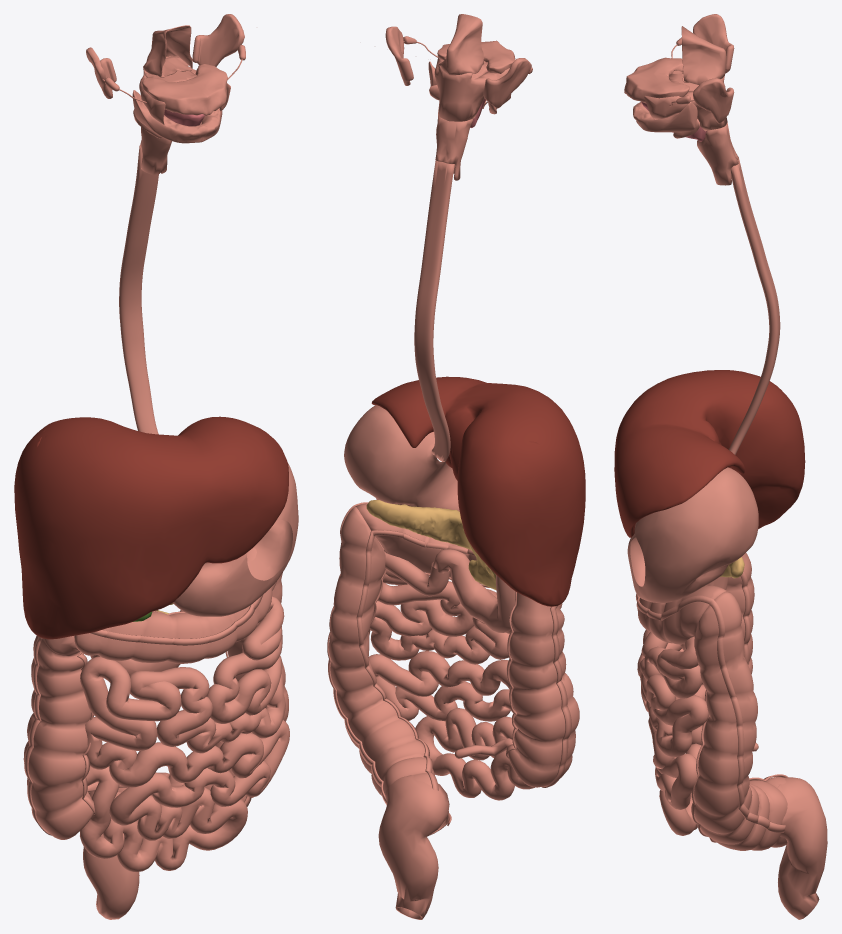
Rendered from digestive.glb.
3 views of the same model, side by side, from view 1: azimuth 30°, elevation 25°; view 2: azimuth 150°, elevation 25°; view 3: azimuth 270°, elevation 25° (orthographic). The views are drawn at different scales.
Visible parts, largest first — view 1: liver, jejunum, ascending-colon, stomach, transverse-colon, oesophagus, gingiva, sigmoid-colon, mesocolic-taenia, parotid-gland-left, nasopharynx, laryngopharynx (+5 smaller); view 2: liver, jejunum, descending-colon, ascending-colon, stomach, sigmoid-colon, oesophagus, pancreas, duodenum, free-taenia, oropharynx, mesocolic-taenia (+7 smaller); view 3: liver, descending-colon, stomach, jejunum, sigmoid-colon, oesophagus, gingiva, mesocolic-taenia, transverse-colon, nasopharynx, laryngopharynx, parotid-gland-left (+4 smaller).
Boxes of the visible parts, bbox=[...] form: liver: bbox=[14, 416, 288, 639]; jejunum: bbox=[80, 596, 289, 872]; ascending-colon: bbox=[23, 635, 92, 839]; stomach: bbox=[173, 463, 298, 616]; transverse-colon: bbox=[74, 547, 276, 663]; oesophagus: bbox=[119, 145, 158, 434]; gingiva: bbox=[132, 64, 227, 143]; sigmoid-colon: bbox=[83, 791, 139, 919]; mesocolic-taenia: bbox=[24, 595, 262, 835]; parotid-gland-left: bbox=[192, 14, 244, 66]; nasopharynx: bbox=[143, 25, 192, 76]; laryngopharynx: bbox=[140, 127, 171, 174]; liver: bbox=[371, 376, 585, 606]; jejunum: bbox=[369, 552, 534, 800]; descending-colon: bbox=[329, 506, 449, 835]; ascending-colon: bbox=[508, 592, 579, 787]; stomach: bbox=[344, 405, 459, 511]; sigmoid-colon: bbox=[378, 775, 449, 919]; oesophagus: bbox=[414, 160, 454, 461]; pancreas: bbox=[366, 500, 496, 589]; duodenum: bbox=[432, 549, 516, 632]; free-taenia: bbox=[356, 530, 517, 790]; oropharynx: bbox=[434, 57, 509, 121]; mesocolic-taenia: bbox=[327, 502, 571, 804]; liver: bbox=[614, 370, 805, 537]; descending-colon: bbox=[694, 591, 787, 850]; stomach: bbox=[627, 467, 758, 603]; jejunum: bbox=[637, 629, 708, 835]; sigmoid-colon: bbox=[777, 777, 827, 919]; oesophagus: bbox=[728, 157, 780, 454]; gingiva: bbox=[624, 57, 697, 132]; mesocolic-taenia: bbox=[635, 593, 785, 832]; transverse-colon: bbox=[637, 585, 728, 644]; nasopharynx: bbox=[681, 26, 726, 84]; laryngopharynx: bbox=[697, 122, 738, 185]; parotid-gland-left: bbox=[693, 78, 734, 123].
Bounding box in the file's own units: 0.2292 × 0.7874 × 0.1712.
